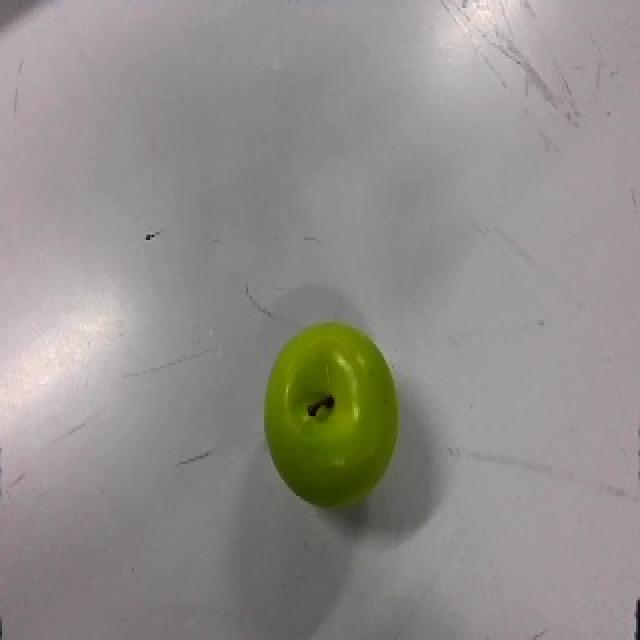apple: (263, 319, 401, 510)
